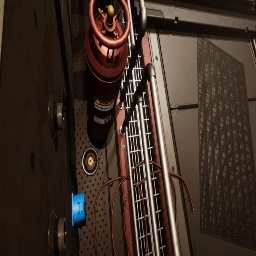NitrogenTank ,: (84, 0, 131, 143)
